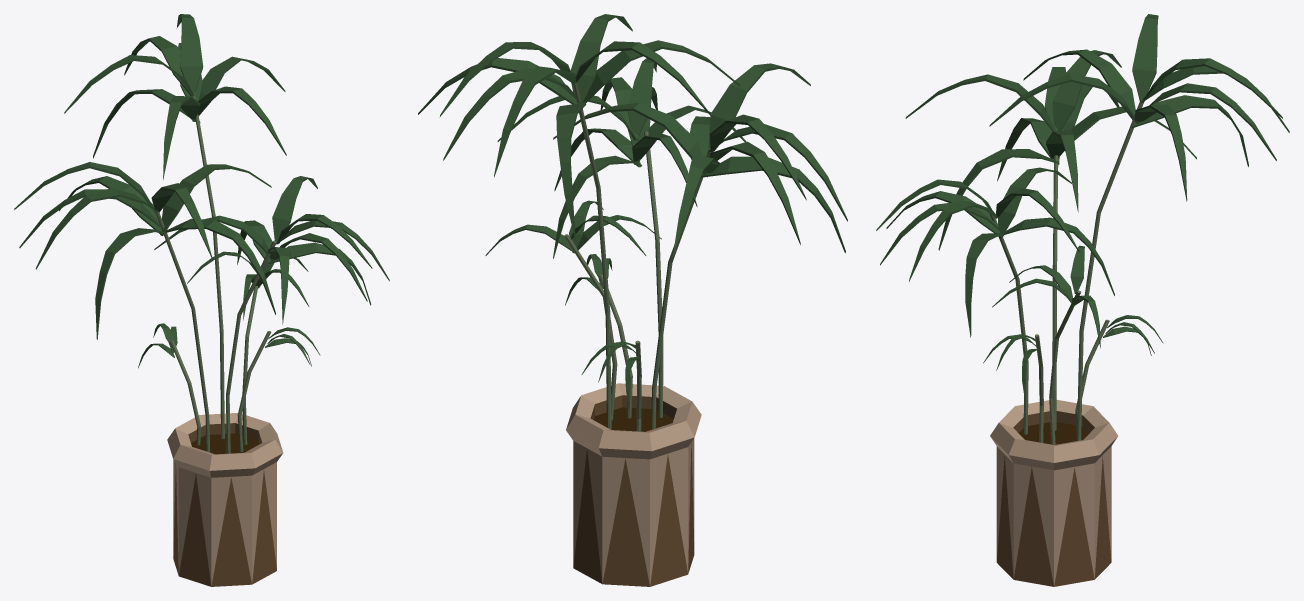
The model's file is TallPlant.fbx.
The picture shows the model from 3 angles, left to right: view 1: azimuth 30°, elevation 25°; view 2: azimuth 150°, elevation 25°; view 3: azimuth 270°, elevation 25°; orthographic projection. The views are drawn at different scales.
Parts seen in each view (by area): view 1: Cylinder, Torus, Cylinder.004, Cylinder.001, Cylinder.025, Cylinder.027, Cylinder.026, Cylinder.031, Cylinder.011, Cylinder.030, Cylinder.024, Cylinder.008 (+18 smaller); view 2: Cylinder, Torus, Cylinder.001, Cylinder.024, Cylinder.006, Cylinder.007, Cylinder.026, Cylinder.027, Cylinder.008, Cylinder.003, Cylinder.029, Cylinder.018 (+17 smaller); view 3: Cylinder, Torus, Cylinder.001, Cylinder.009, Cylinder.029, Cylinder.008, Cylinder.024, Cylinder.005, Cylinder.025, Cylinder.006, Cylinder.007, Cylinder.004 (+17 smaller).
Part boxes in pixels (<box>): Cylinder: <box>173,433,276,586</box>; Torus: <box>167,413,283,477</box>; Cylinder.004: <box>176,14,203,95</box>; Cylinder.001: <box>191,94,224,438</box>; Cylinder.025: <box>165,218,275,314</box>; Cylinder.027: <box>160,164,271,235</box>; Cylinder.026: <box>95,228,166,339</box>; Cylinder.031: <box>156,211,209,452</box>; Cylinder.011: <box>272,176,317,241</box>; Cylinder.030: <box>35,188,158,269</box>; Cylinder.024: <box>151,183,212,260</box>; Cylinder.008: <box>163,96,200,179</box>; Cylinder: <box>573,407,694,586</box>; Torus: <box>566,383,701,459</box>; Cylinder.001: <box>572,82,611,429</box>; Cylinder.024: <box>708,63,810,149</box>; Cylinder.006: <box>570,14,632,103</box>; Cylinder.007: <box>556,102,586,240</box>; Cylinder.026: <box>701,156,845,253</box>; Cylinder.027: <box>553,103,707,177</box>; Cylinder.008: <box>582,40,739,102</box>; Cylinder.003: <box>494,66,576,177</box>; Cylinder.029: <box>710,114,806,200</box>; Cylinder.018: <box>644,131,663,417</box>; Cylinder: <box>996,422,1111,586</box>; Torus: <box>990,400,1117,470</box>; Cylinder.001: <box>1077,100,1143,440</box>; Cylinder.009: <box>1132,14,1158,100</box>; Cylinder.029: <box>1052,50,1121,130</box>; Cylinder.008: <box>1023,49,1135,119</box>; Cylinder.024: <box>905,74,1055,131</box>; Cylinder.005: <box>1134,104,1187,201</box>; Cylinder.025: <box>938,149,1059,250</box>; Cylinder.006: <box>989,74,1137,126</box>; Cylinder.007: <box>1131,95,1248,166</box>; Cylinder.004: <box>1143,58,1282,118</box>.
Size of the model in its own units: 352 by 530 by 382.
